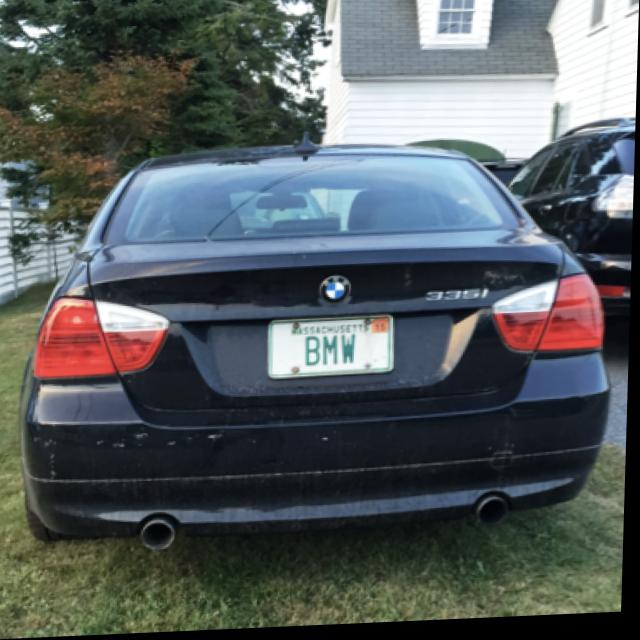licence: (269, 317, 397, 379)
